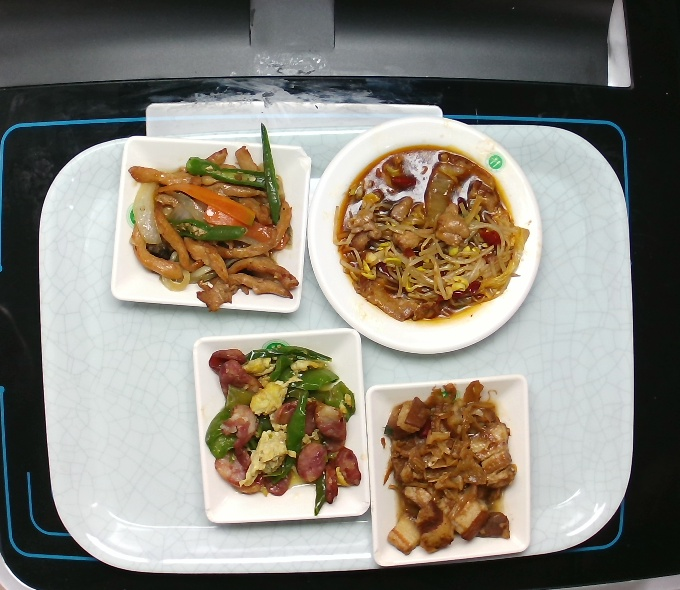wcq-HongShaoRou: (372, 378, 519, 558)
wcq-QingJiaoJiDanChaoDaChang: (198, 339, 365, 521)
wcq-QingJiaoRouSi: (121, 117, 306, 316)
wcq-ShuiZhuRouPian: (328, 134, 532, 335)
